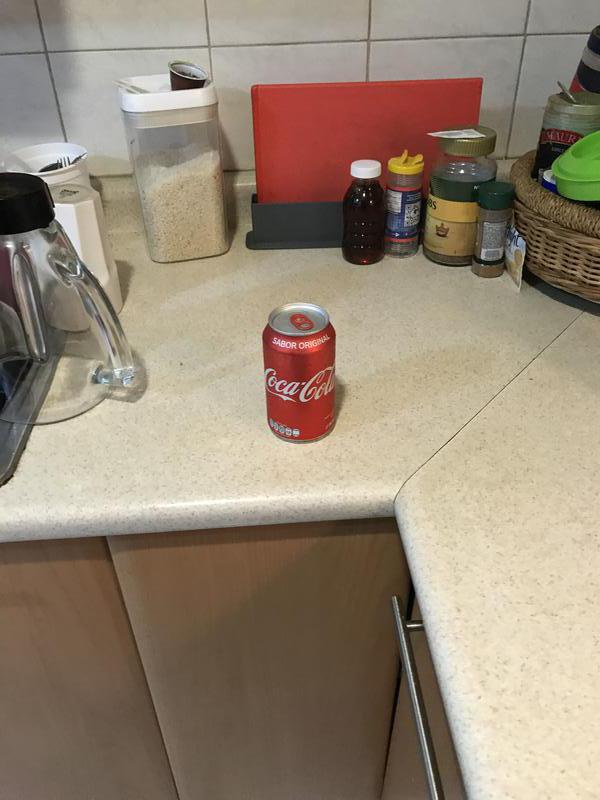coca_cola: (262, 305, 340, 443)
